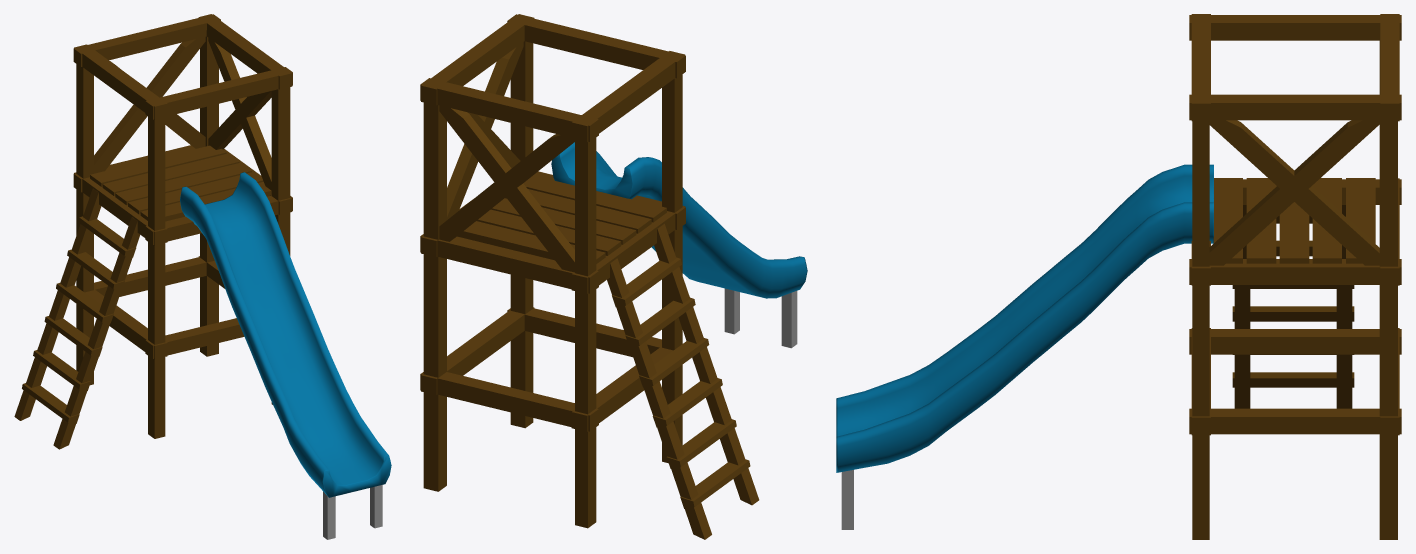
File: tobogan_slide_from_playground..glb
3 renders of one model, left to right at view 1: azimuth 30°, elevation 25°; view 2: azimuth 150°, elevation 25°; view 3: azimuth 270°, elevation 25°, orthographic. The views are drawn at different scales.
Parts seen in each view (by area): view 1: Merdevine, Tobogan, Nogice; view 2: Merdevine, Tobogan, Nogice; view 3: Merdevine, Tobogan, Nogice.
Boxes of the visible parts, <box> form: Merdevine: <box>14,14,292,449</box>; Tobogan: <box>180,172,391,497</box>; Nogice: <box>323,485,382,539</box>; Merdevine: <box>420,14,759,539</box>; Tobogan: <box>551,142,807,298</box>; Nogice: <box>724,288,797,348</box>; Merdevine: <box>1189,14,1401,539</box>; Tobogan: <box>836,164,1213,472</box>; Nogice: <box>841,470,853,529</box>.
Size of the model in its own units: 1.41 by 2.14 by 2.42.
